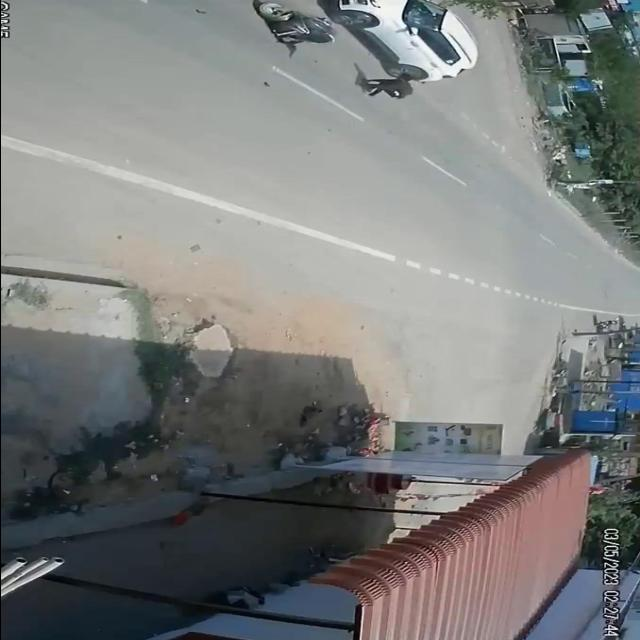accident: (252, 0, 484, 104)
